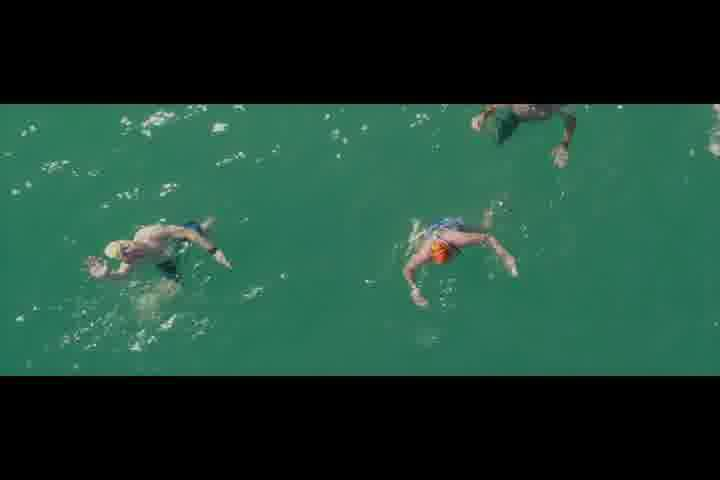human: (393, 202, 525, 312), (86, 210, 222, 294), (470, 96, 584, 170)
